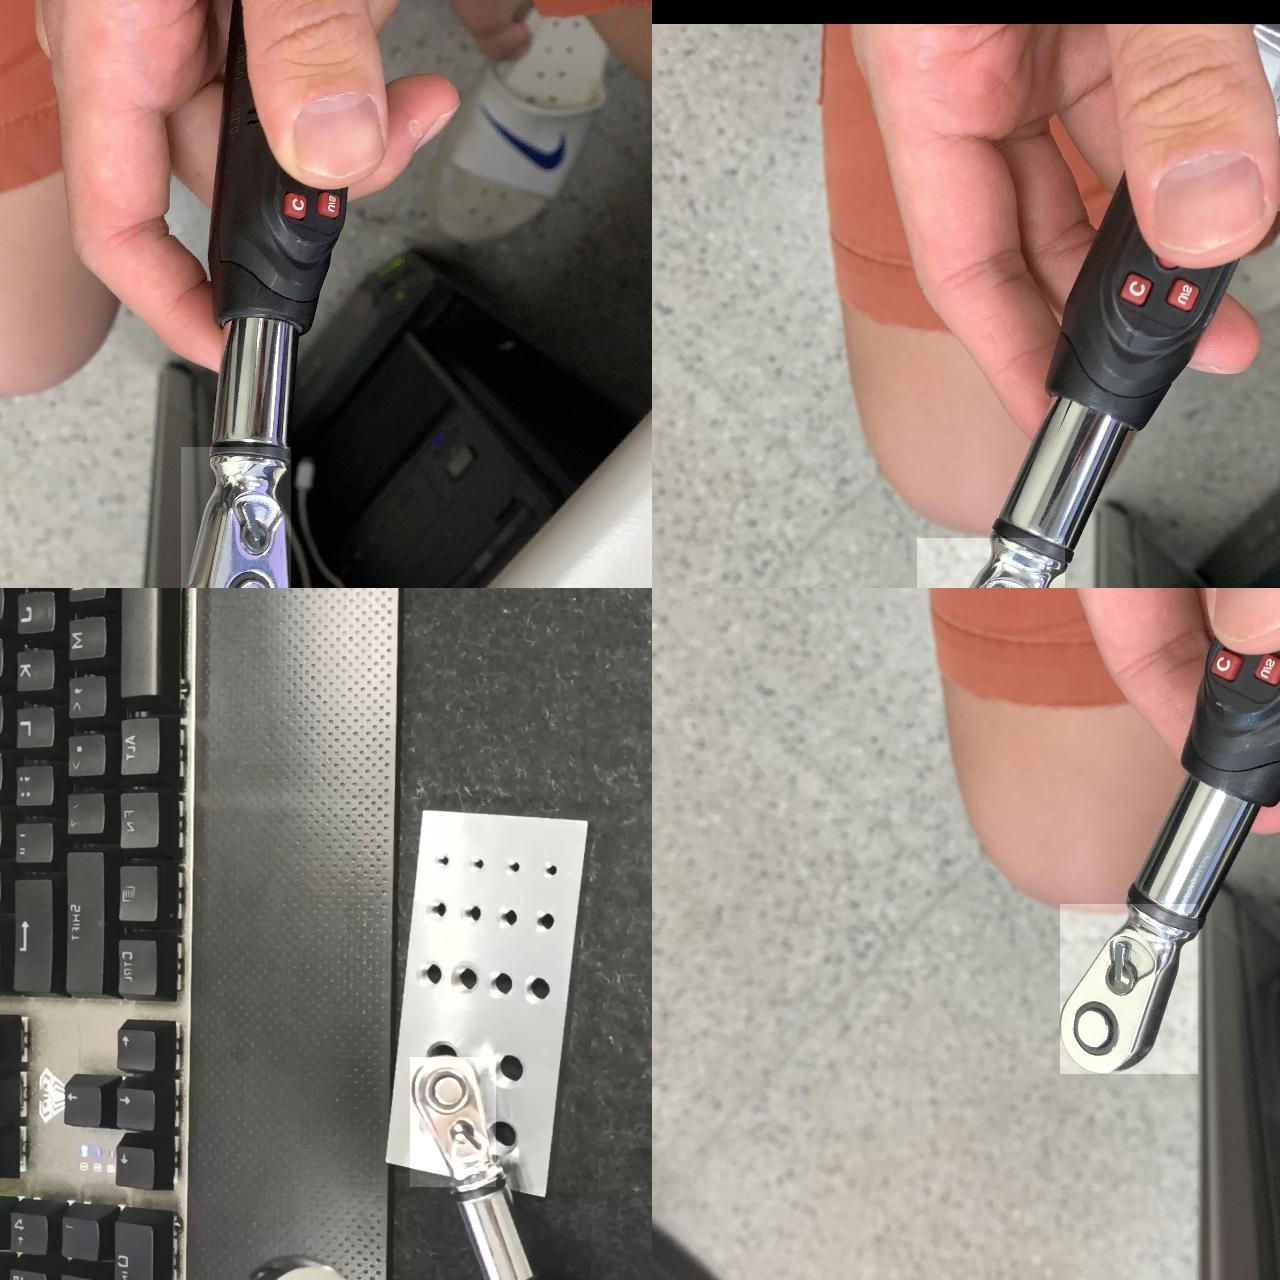Tool: (1060, 903, 1198, 1073), (181, 445, 291, 588), (410, 1056, 496, 1186), (917, 537, 1065, 588)
hole: (484, 1053, 527, 1092), (481, 1122, 517, 1160), (421, 1032, 462, 1065), (408, 956, 442, 992), (519, 973, 551, 1007), (448, 960, 478, 995), (481, 969, 509, 1000), (530, 908, 557, 935), (490, 904, 516, 931), (424, 896, 450, 922), (457, 900, 482, 925), (433, 847, 455, 869), (465, 852, 486, 872), (503, 859, 524, 879), (539, 863, 559, 881)
